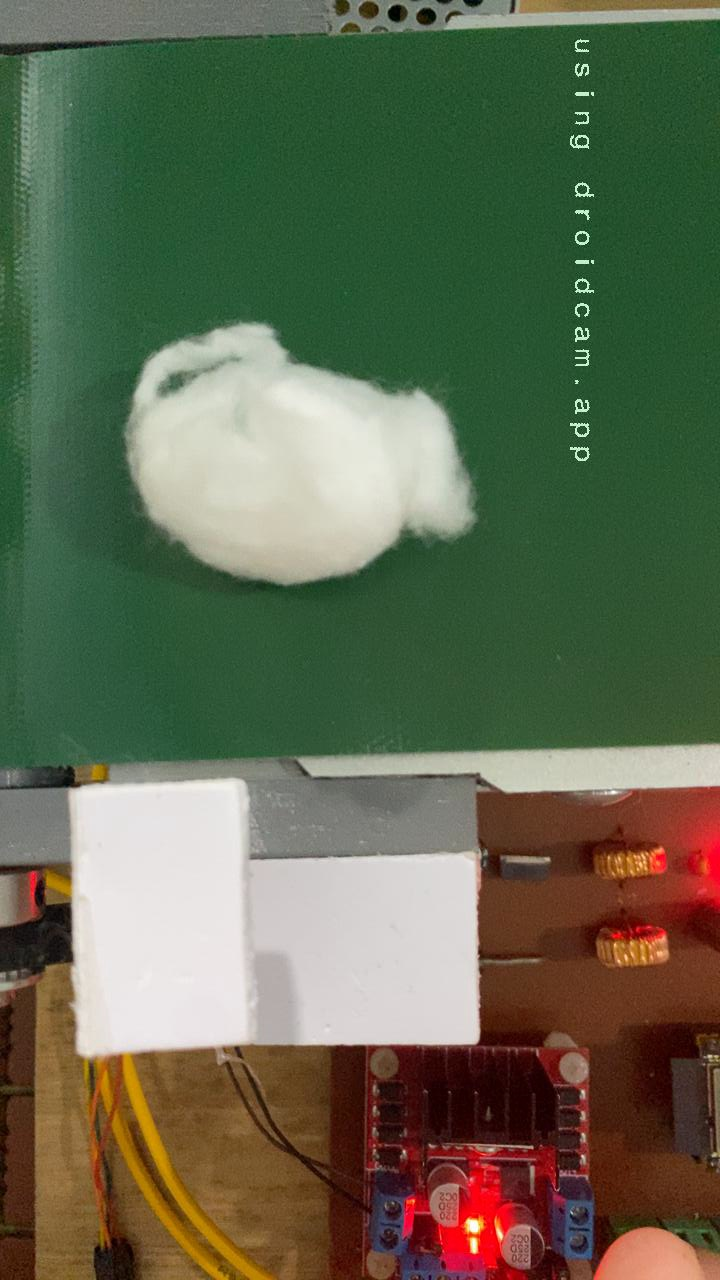cotton: (121, 318, 478, 590)
